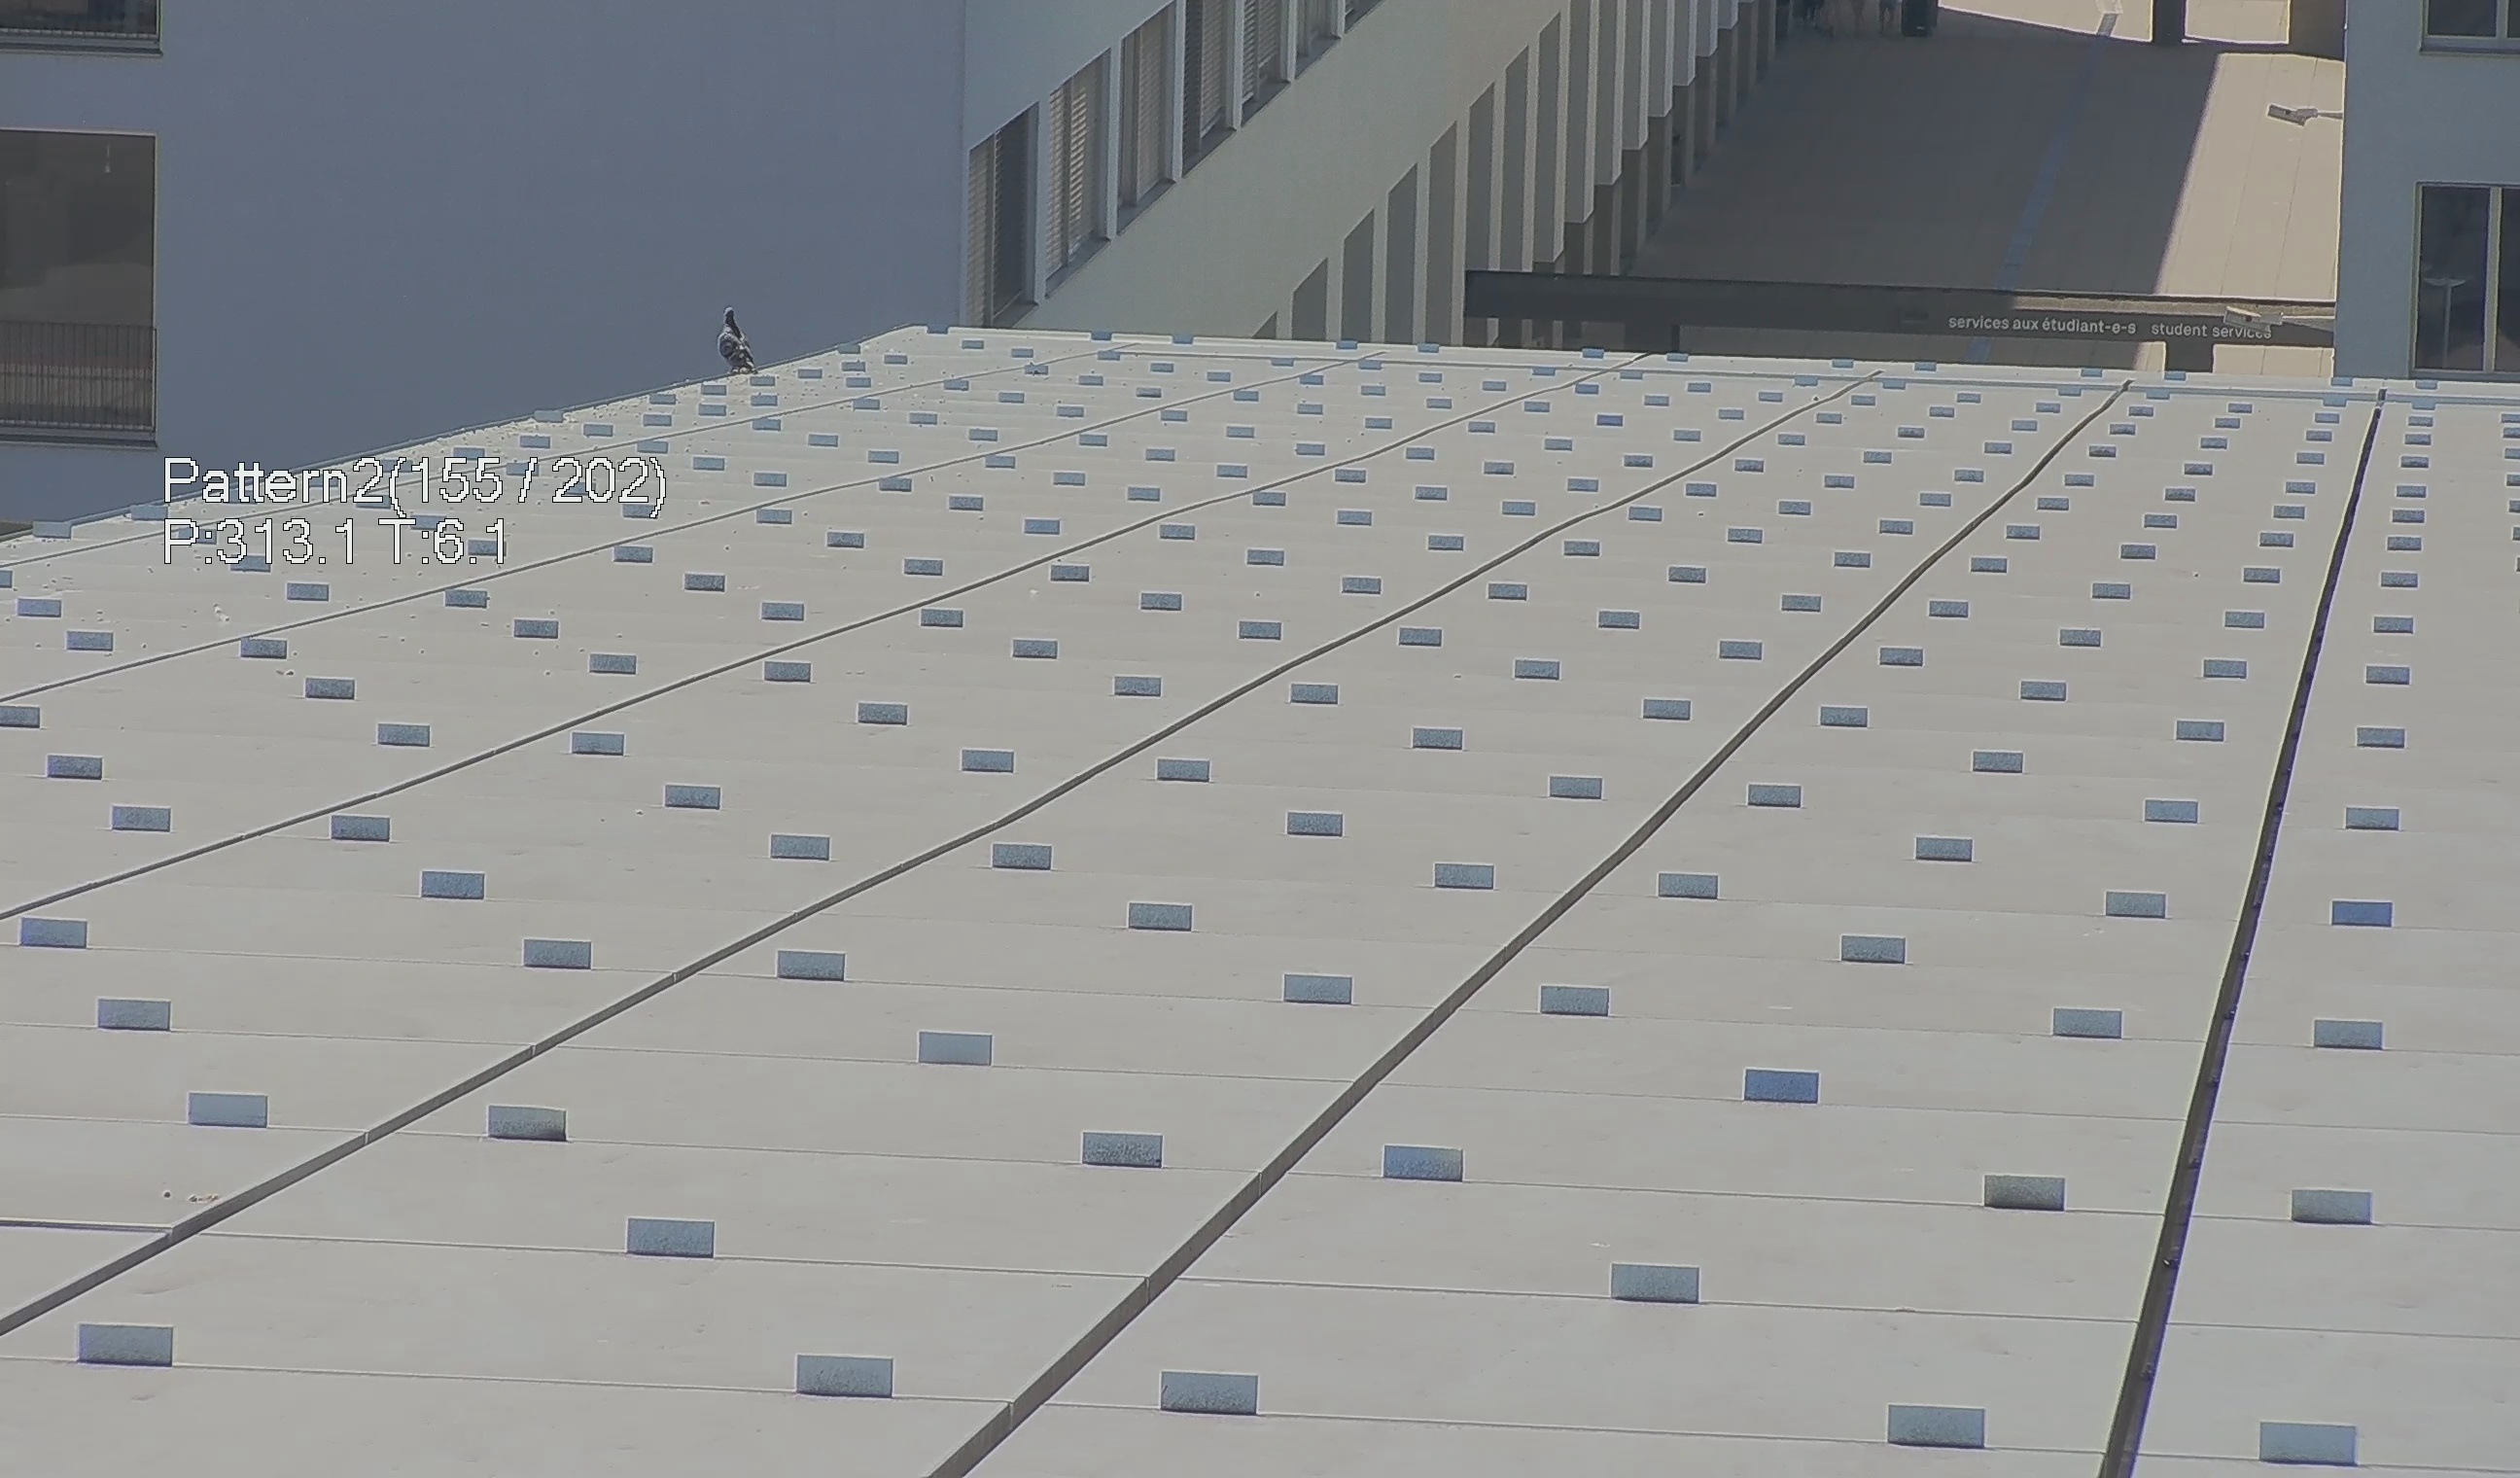Pigeon: (696, 292, 758, 380)
